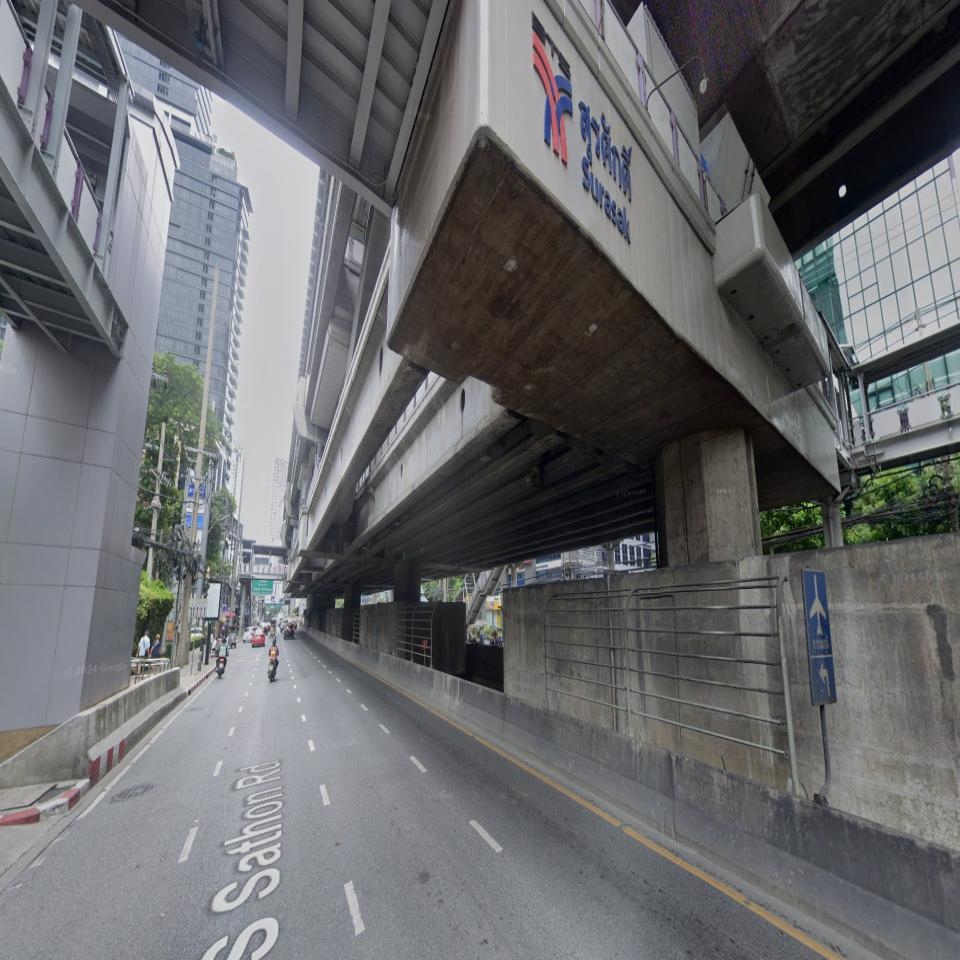signage: (530, 9, 633, 246), (578, 99, 633, 246)
